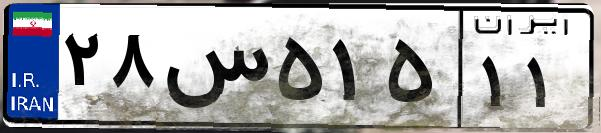1: (330, 28, 385, 110), (475, 38, 525, 113), (525, 38, 570, 115)
2: (57, 26, 110, 100)
5: (270, 28, 330, 110), (385, 28, 445, 110)
8: (110, 28, 158, 98)
س: (158, 20, 270, 120)
